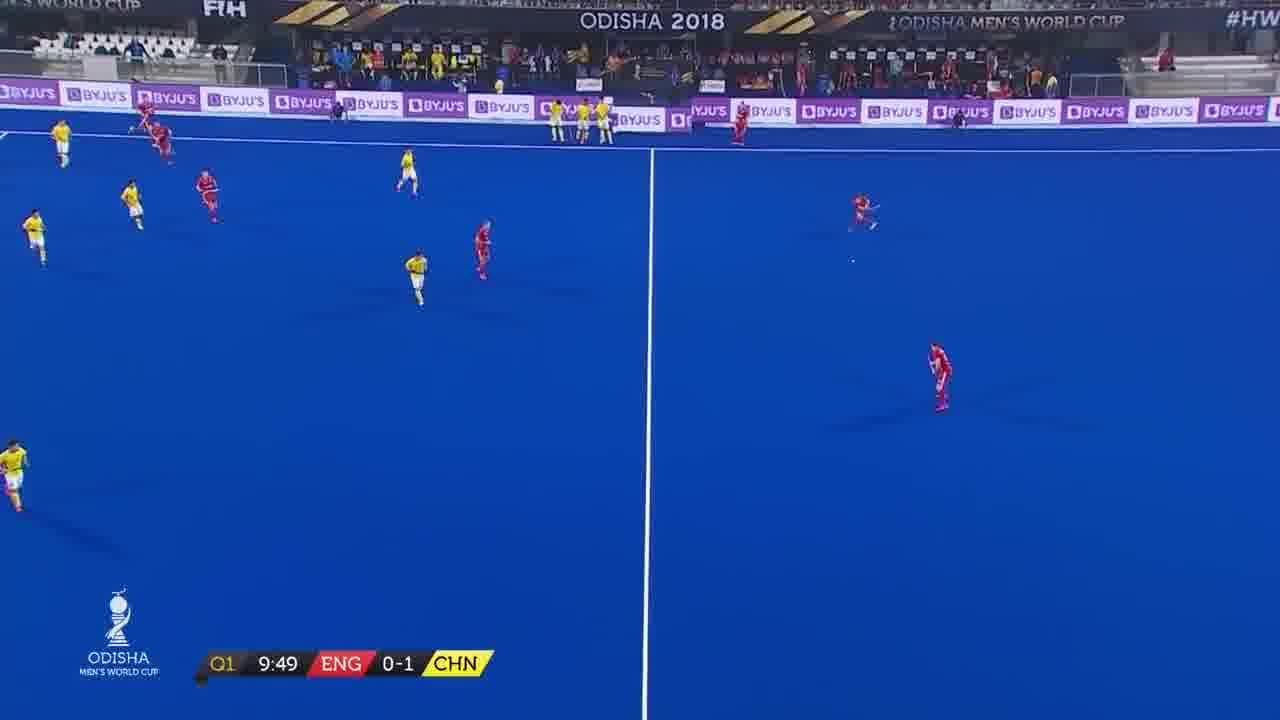ball: (847, 258, 857, 267)
